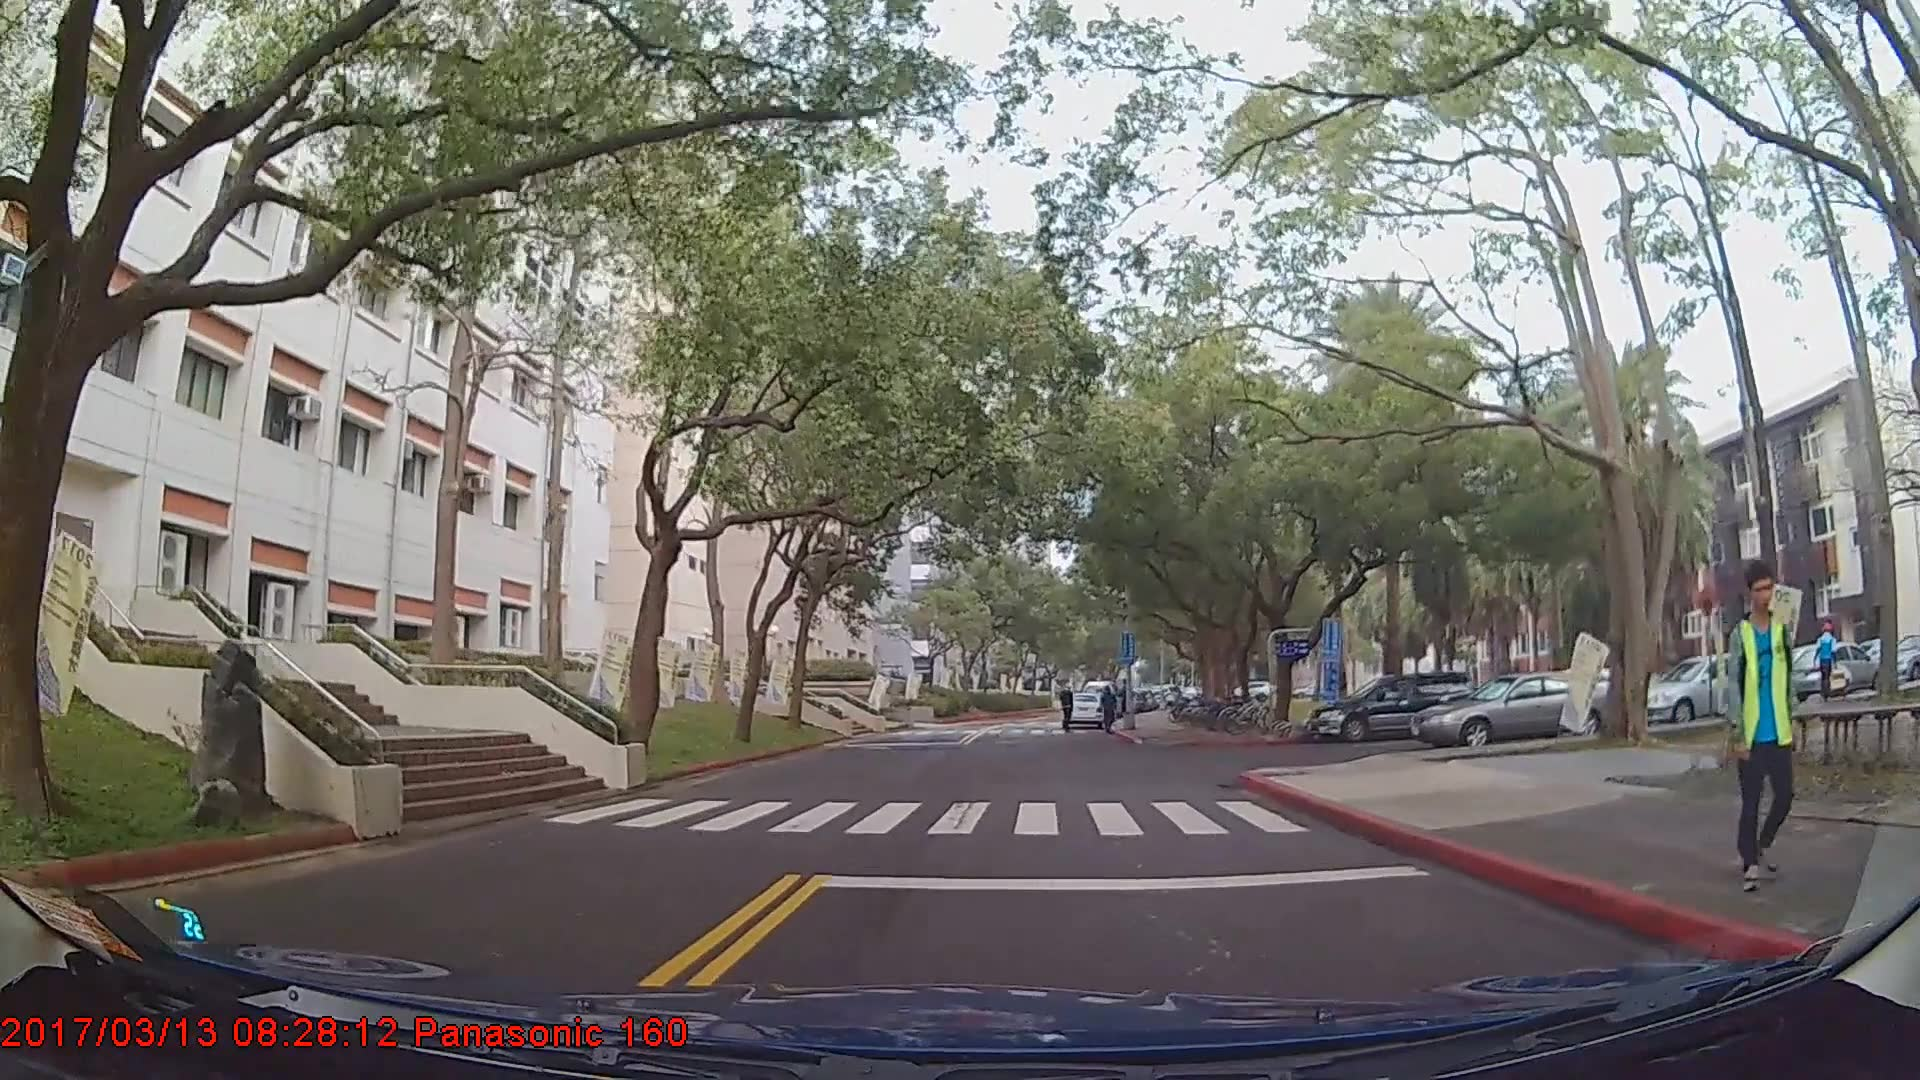pedestrian: (1720, 561, 1801, 892), (1807, 614, 1841, 707), (1100, 685, 1121, 735), (1058, 684, 1078, 735)
vehicle: (1411, 669, 1620, 747), (1307, 668, 1478, 739), (1634, 653, 1782, 724), (1787, 639, 1880, 696), (1059, 690, 1105, 728)
